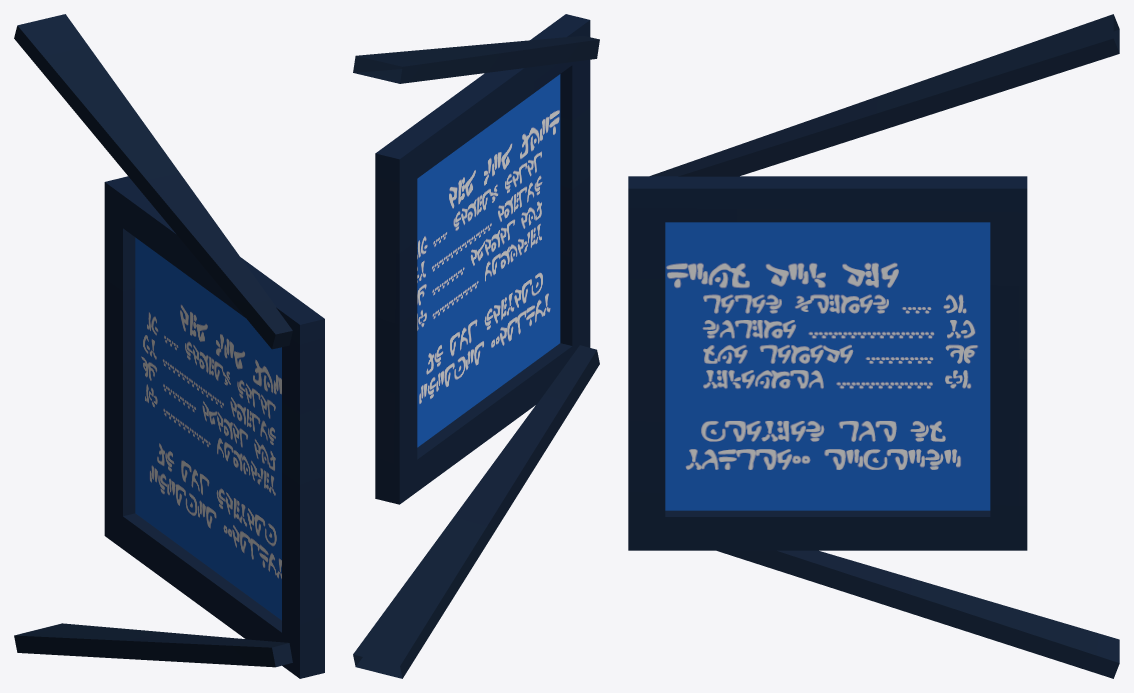
Rendered from Pub - screen.fbx.
3 views of the same model, side by side, from view 1: azimuth 30°, elevation 25°; view 2: azimuth 150°, elevation 25°; view 3: azimuth 270°, elevation 25° (orthographic). The views are drawn at different scales.
Parts seen in each view (by area): view 1: Screen; view 2: Screen; view 3: Screen.
Boxes of the visible parts, <box> form: Screen: <box>14,14,324,678</box>; Screen: <box>353,14,599,678</box>; Screen: <box>628,14,1119,678</box>.
Bounding box in the file's own units: 17.18 × 146 × 102.
